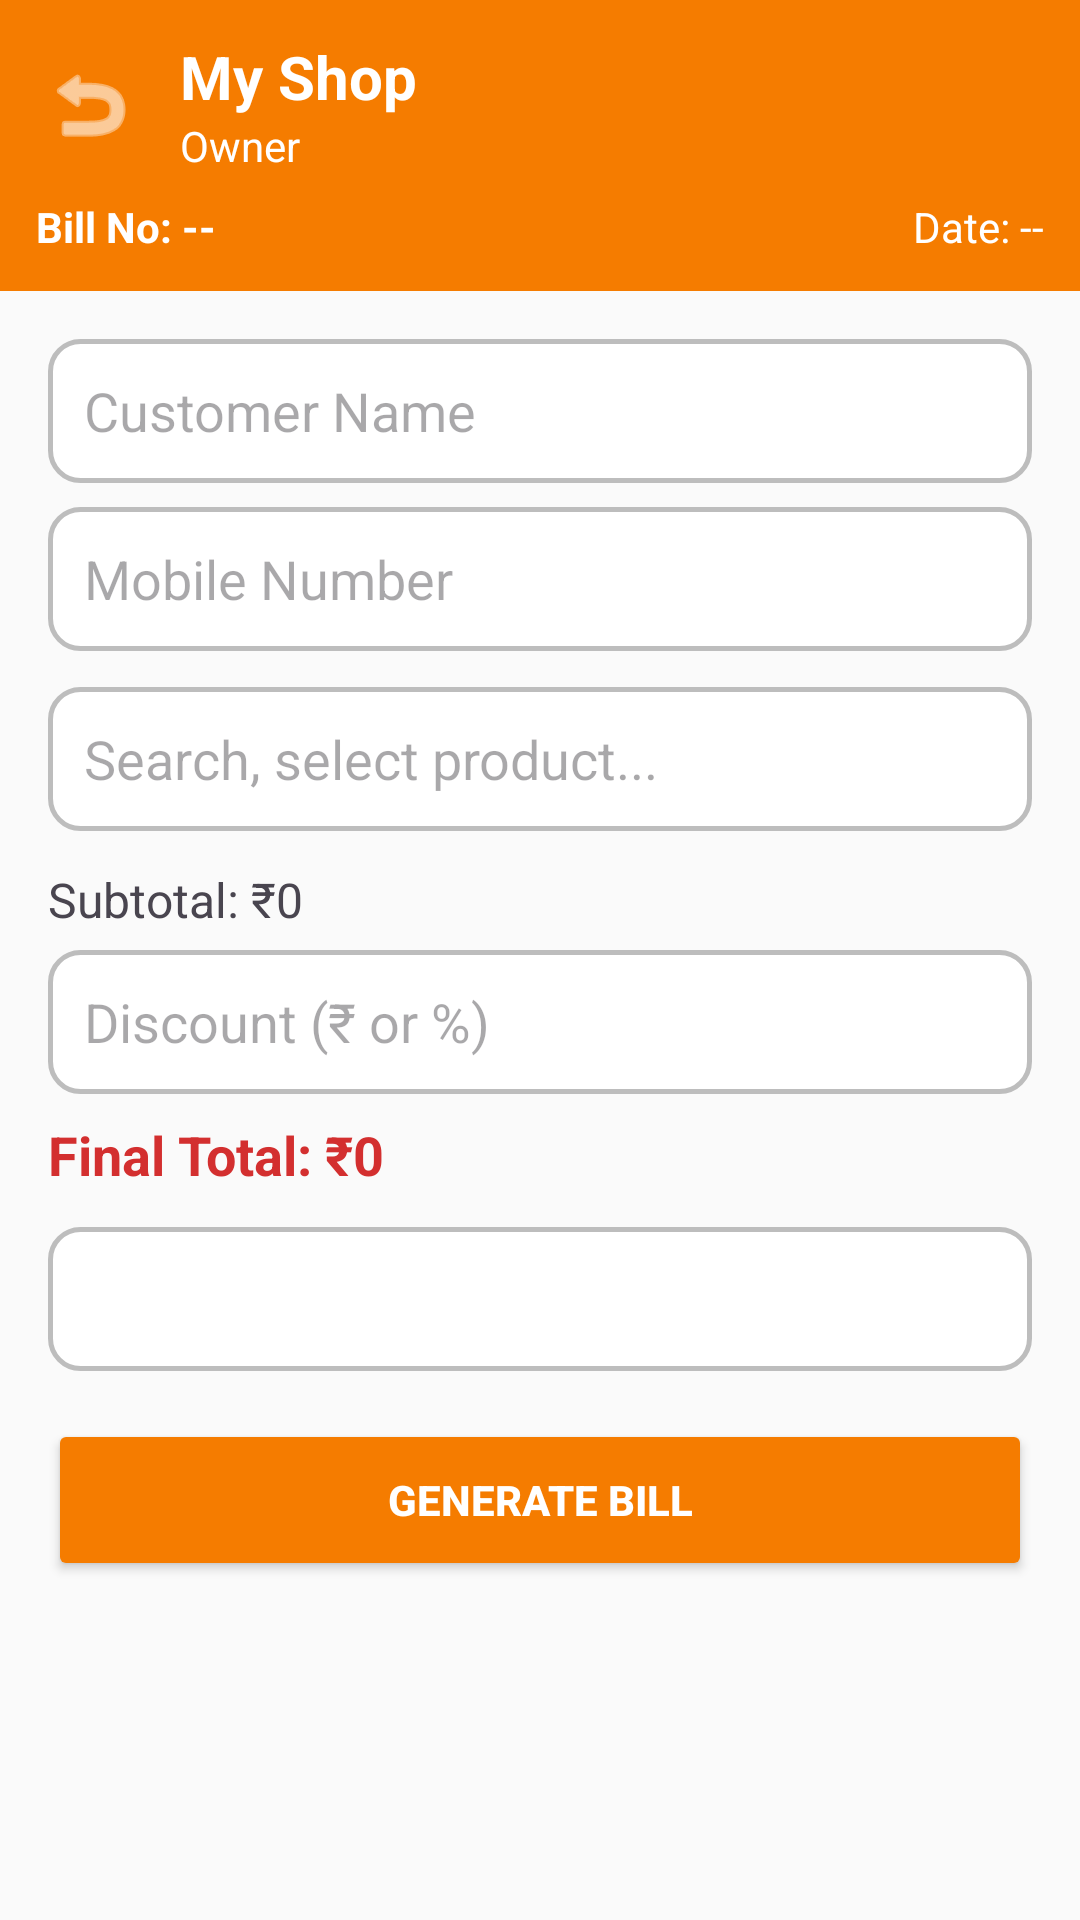

Icons on this 1080w x 1920h Android screen, each with the point to tap as (x=x, y=y):
revert: (x=91, y=105)
